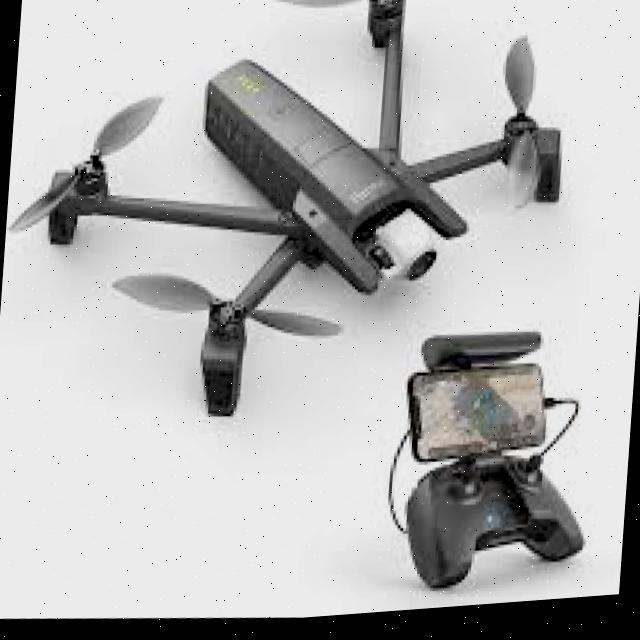drone: (0, 0, 591, 471)
